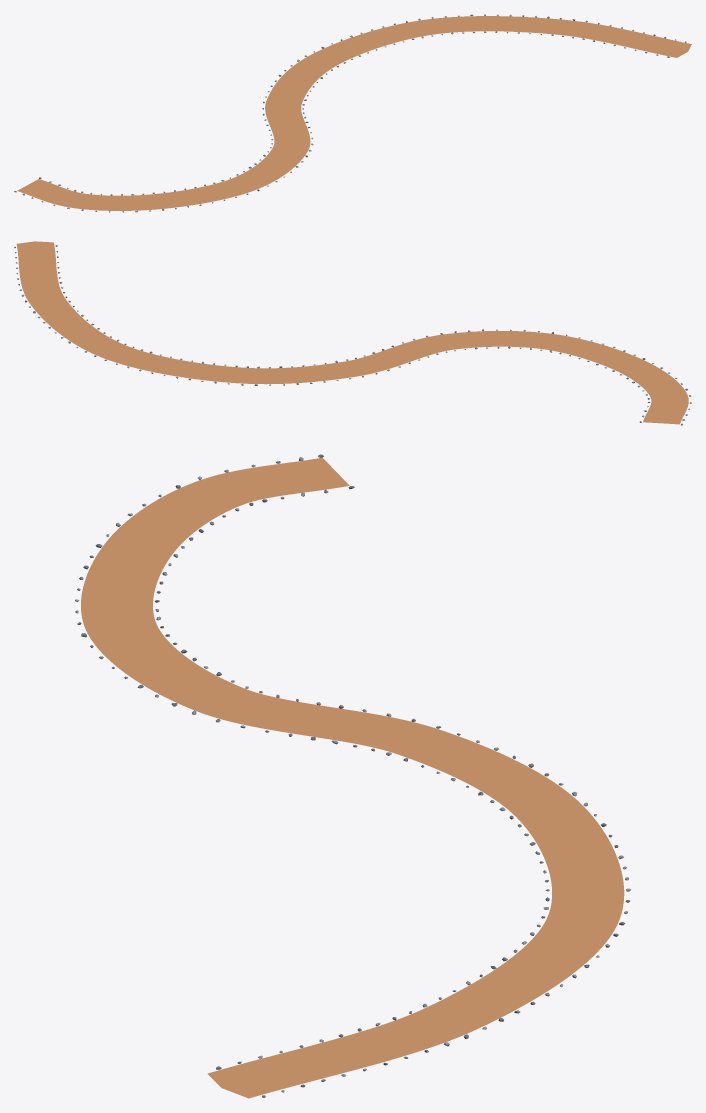
Rendered from camino_mapa.glb.
3 renders of one model, top to bottom at view 1: azimuth 30°, elevation 25°; view 2: azimuth 150°, elevation 25°; view 3: azimuth 270°, elevation 25°, orthographic. The views are drawn at different scales.
Parts seen in each view (by area): view 1: suelo; view 2: suelo; view 3: suelo.
Boxes of the visible parts, x1,y1,x2,y2 form: suelo: [17, 16, 691, 210]; suelo: [16, 241, 688, 424]; suelo: [81, 457, 624, 1098].
Bounding box in the file's own units: 92.95 × 0.254 × 33.97.
